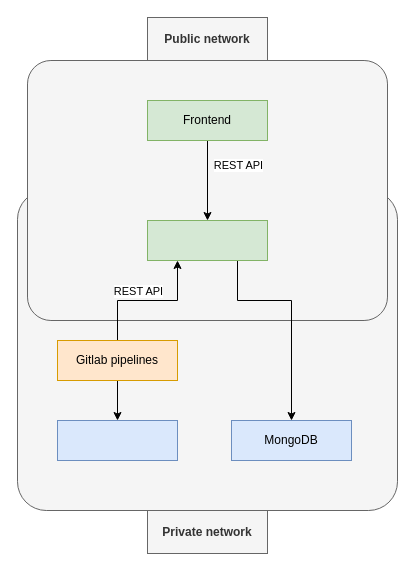
The diagram is 415 pixels wide and 571 high, and some of its shapes have lost their labels. Each missing label, with the box of its shape:
Server API: (146, 220, 268, 260)
SonarQube Server: (56, 420, 178, 460)
